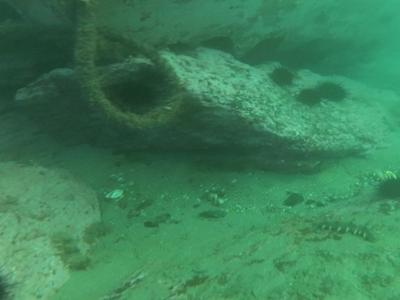holothurian: (314, 213, 375, 241)
urchin: (115, 72, 169, 112), (319, 81, 343, 101), (271, 67, 295, 86), (382, 177, 397, 199), (301, 89, 320, 104)
